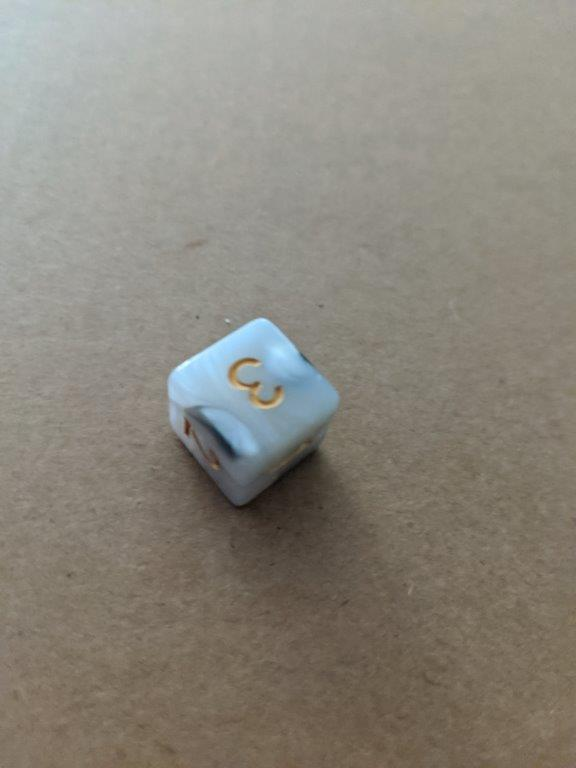d6-3: (168, 316, 341, 507)
